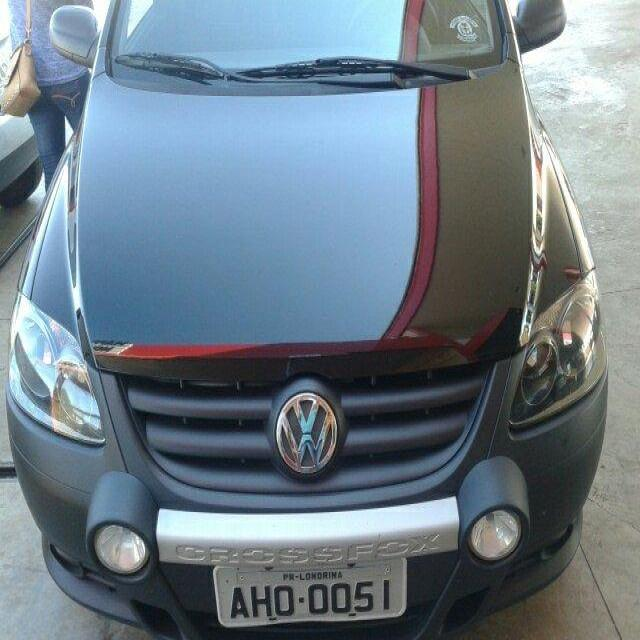Placa: (206, 549, 410, 631)
